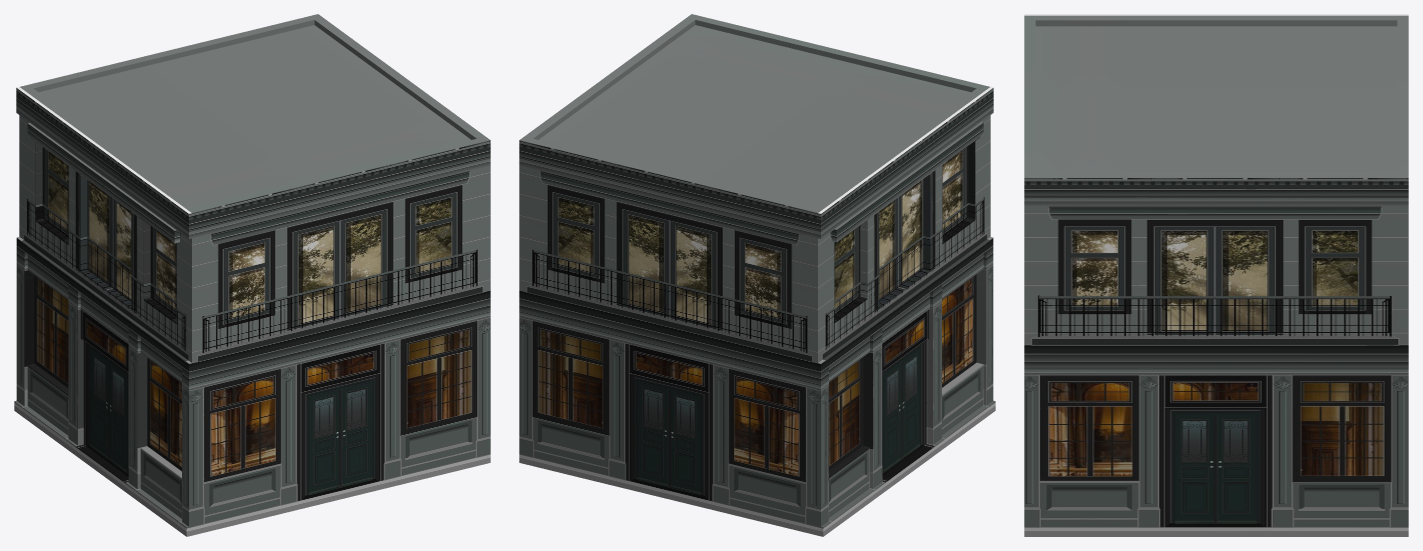
3 views of the same model, side by side, from view 1: azimuth 30°, elevation 25°; view 2: azimuth 150°, elevation 25°; view 3: azimuth 270°, elevation 25° (orthographic). The views are drawn at different scales.
Parts seen in each view (by area): view 1: building, windows; view 2: building, windows; view 3: building.
Boxes of the visible parts, bbox=[...] form: building: bbox=[14, 14, 490, 536]; windows: bbox=[34, 147, 181, 471]; building: bbox=[519, 14, 995, 536]; windows: bbox=[829, 146, 968, 470]; building: bbox=[1024, 14, 1408, 536].
Bounding box in the file's own units: 5.62 × 5.7 × 5.52.
2 materials, 2 textured.
